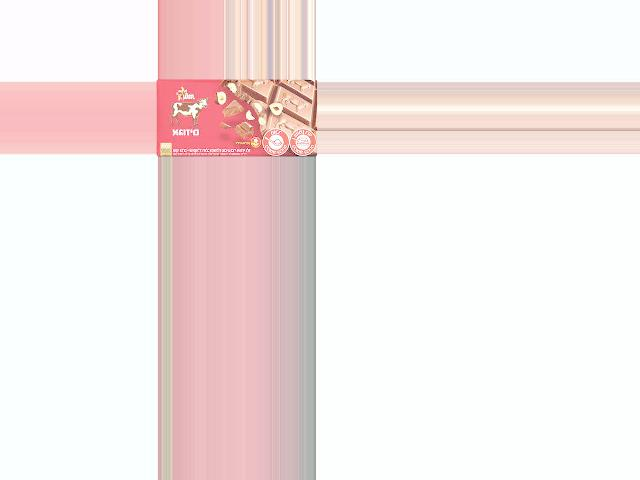chocolate: (155, 80, 316, 154)
